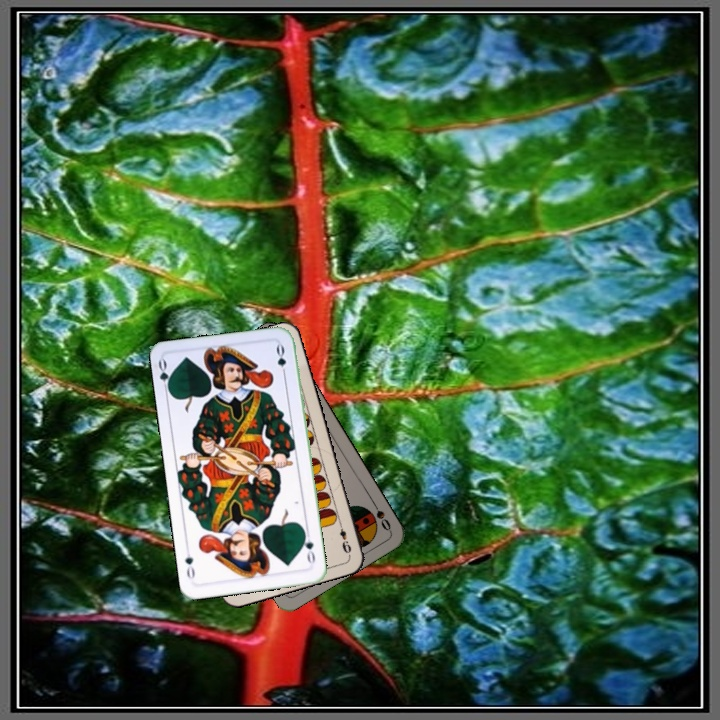E9: (335, 518, 354, 557)
GO: (154, 356, 175, 397), (299, 527, 318, 568)
SO: (367, 496, 393, 534)
